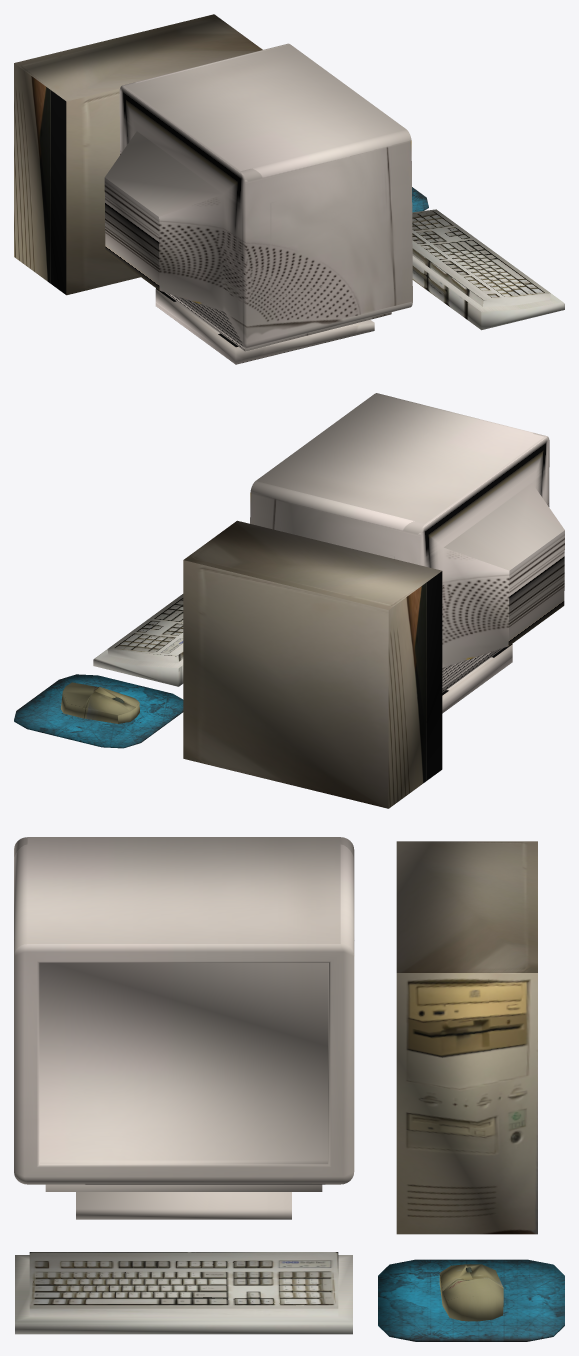
File: OldComputer.fbx
3 views of the same model, one above another, from view 1: azimuth 30°, elevation 25°; view 2: azimuth 150°, elevation 25°; view 3: azimuth 270°, elevation 25° (orthographic). The views are drawn at different scales.
Visible parts, largest first — view 1: OldComputer, ComputerCase, OldKeyboard; view 2: ComputerCase, OldComputer, Mousepad, OldKeyboard, Mouse; view 3: OldComputer, ComputerCase, OldKeyboard, Mousepad, Mouse.
Boxes of the visible parts, bbox=[...] form: OldComputer: bbox=[104, 43, 412, 364]; ComputerCase: bbox=[14, 14, 262, 295]; OldKeyboard: bbox=[412, 209, 564, 330]; ComputerCase: bbox=[183, 520, 442, 808]; OldComputer: bbox=[250, 393, 564, 713]; Mousepad: bbox=[14, 674, 183, 748]; OldKeyboard: bbox=[93, 594, 183, 686]; Mouse: bbox=[61, 682, 139, 723]; OldComputer: bbox=[14, 837, 354, 1219]; ComputerCase: bbox=[396, 841, 537, 1234]; OldKeyboard: bbox=[15, 1252, 352, 1334]; Mousepad: bbox=[378, 1259, 564, 1341]; Mouse: bbox=[439, 1264, 503, 1321].
Bounding box in the file's own units: 301 × 164 × 280.
